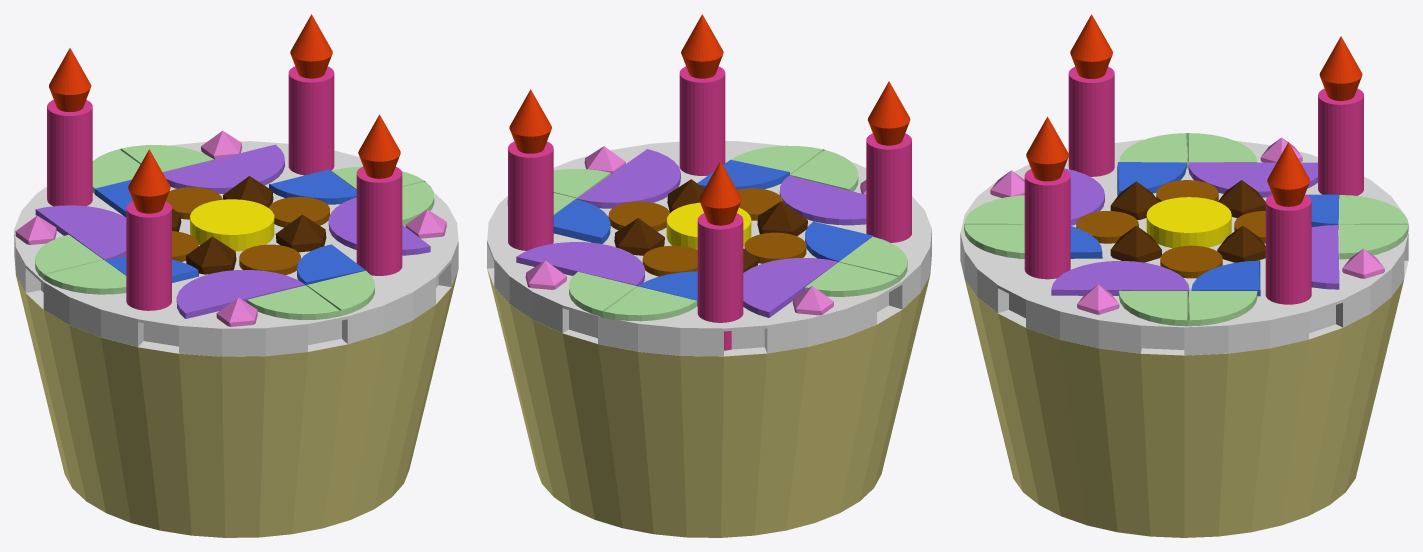
Rendered from LegoCupcake.fbx.
The picture shows the model from 3 angles, left to right: view 1: azimuth 30°, elevation 25°; view 2: azimuth 150°, elevation 25°; view 3: azimuth 270°, elevation 25°; orthographic projection.
Parts seen in each view (by area): view 1: Cylinder, Cylinder.001, Cylinder.019, Cylinder.020, Cylinder.022, Cylinder.021, Cylinder.003, Cylinder.004, Cylinder.009, Cylinder.023, Cylinder.007, Cylinder.006 (+22 smaller); view 2: Cylinder, Cylinder.001, Cylinder.021, Cylinder.019, Cylinder.020, Cylinder.022, Cylinder.002, Cylinder.004, Cylinder.008, Cylinder.007, Cylinder.006, Cylinder.003 (+21 smaller); view 3: Cylinder, Cylinder.001, Cylinder.020, Cylinder.019, Cylinder.022, Cylinder.021, Cylinder.005, Cylinder.023, Cylinder.002, Cylinder.008, Cylinder.004, Cylinder.003 (+22 smaller).
Boxes of the visible parts, <box> form: Cylinder: <box>16,270,458,537</box>; Cylinder.001: <box>14,141,458,356</box>; Cylinder.019: <box>356,166,402,275</box>; Cylinder.020: <box>288,66,334,175</box>; Cylinder.022: <box>126,201,171,310</box>; Cylinder.021: <box>47,100,92,206</box>; Cylinder.003: <box>247,270,374,319</box>; Cylinder.004: <box>35,234,126,294</box>; Cylinder.009: <box>176,270,305,318</box>; Cylinder.023: <box>190,199,274,251</box>; Cylinder.007: <box>162,144,284,193</box>; Cylinder.006: <box>35,205,126,260</box>; Cylinder: <box>487,270,930,537</box>; Cylinder.001: <box>487,141,931,356</box>; Cylinder.021: <box>697,213,743,350</box>; Cylinder.019: <box>679,66,725,175</box>; Cylinder.020: <box>508,141,553,250</box>; Cylinder.022: <box>866,133,911,242</box>; Cylinder.002: <box>569,271,697,321</box>; Cylinder.004: <box>805,236,907,296</box>; Cylinder.008: <box>577,149,680,208</box>; Cylinder.007: <box>516,242,644,286</box>; Cylinder.006: <box>743,258,837,317</box>; Cylinder.003: <box>731,145,858,191</box>; Cylinder: <box>964,279,1403,537</box>; Cylinder.001: <box>960,139,1408,355</box>; Cylinder.020: <box>1265,194,1311,304</box>; Cylinder.019: <box>1024,169,1070,279</box>; Cylinder.022: <box>1068,66,1114,176</box>; Cylinder.021: <box>1318,88,1363,198</box>; Cylinder.005: <box>1119,291,1257,326</box>; Cylinder.023: <box>1146,197,1231,248</box>; Cylinder.002: <box>1339,195,1408,259</box>; Cylinder.008: <box>1051,260,1189,296</box>; Cylinder.004: <box>1119,133,1257,168</box>; Cylinder.003: <box>964,195,1024,258</box>.
Bounding box in the file's own units: 200 × 189 × 200.
